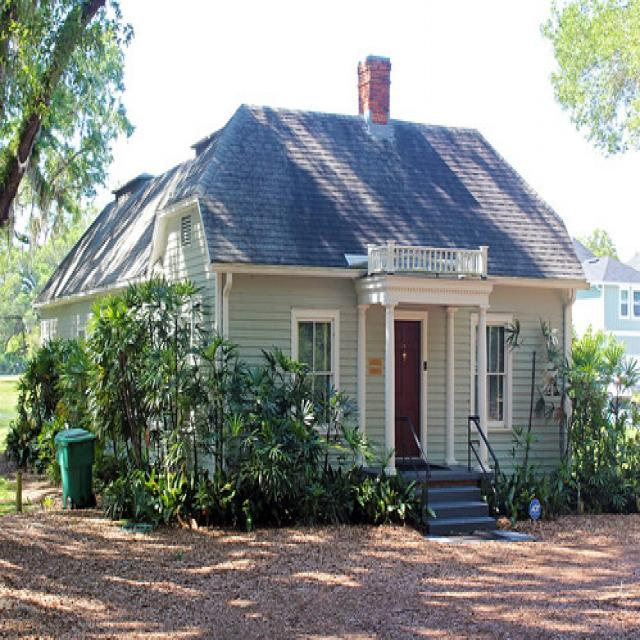Normal_building: (32, 53, 590, 531)
